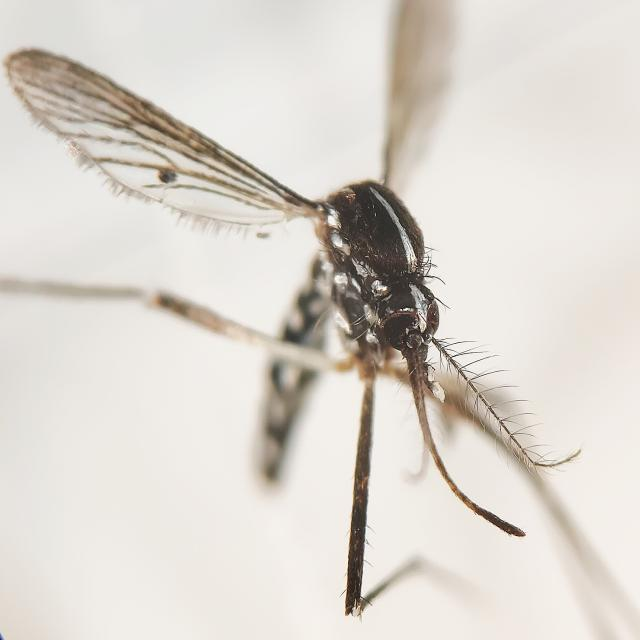aegypti: (45, 58, 607, 613)
